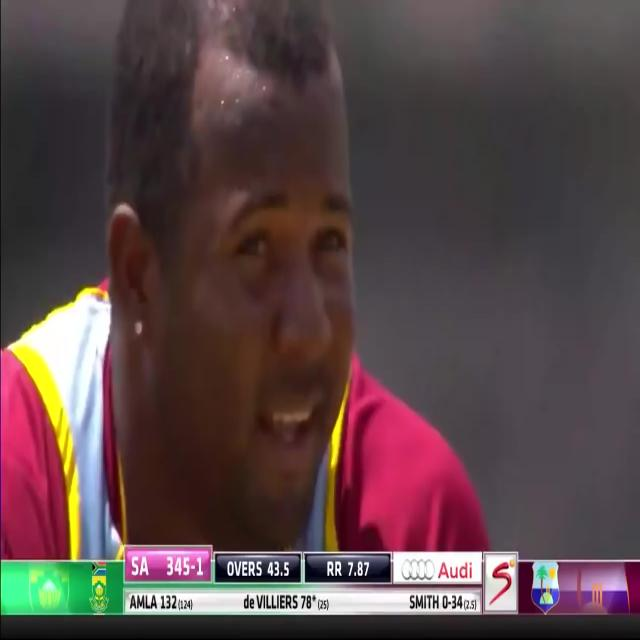Fielder: (0, 0, 493, 558)
